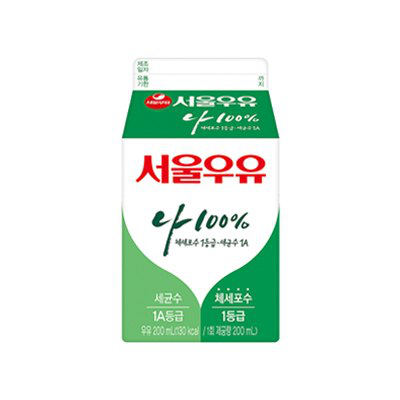milk: (122, 57, 279, 343)
